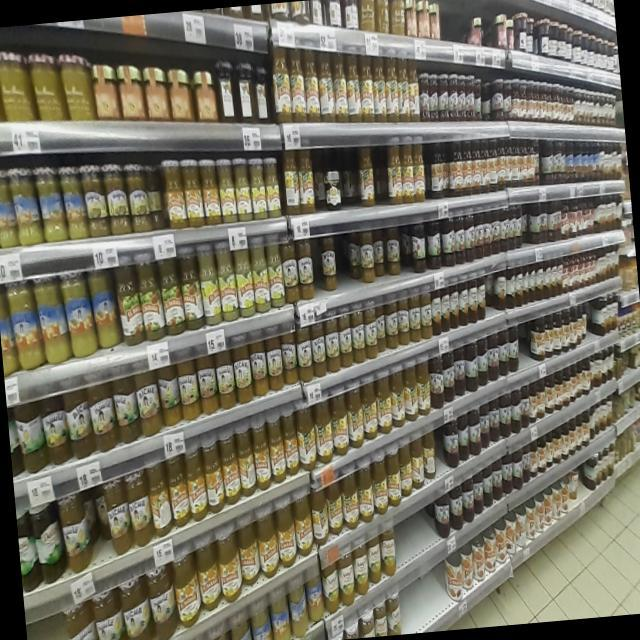produto: (270, 35, 427, 127), (155, 142, 291, 228), (500, 237, 626, 318), (504, 62, 622, 129)
vazio: (300, 217, 436, 299)
